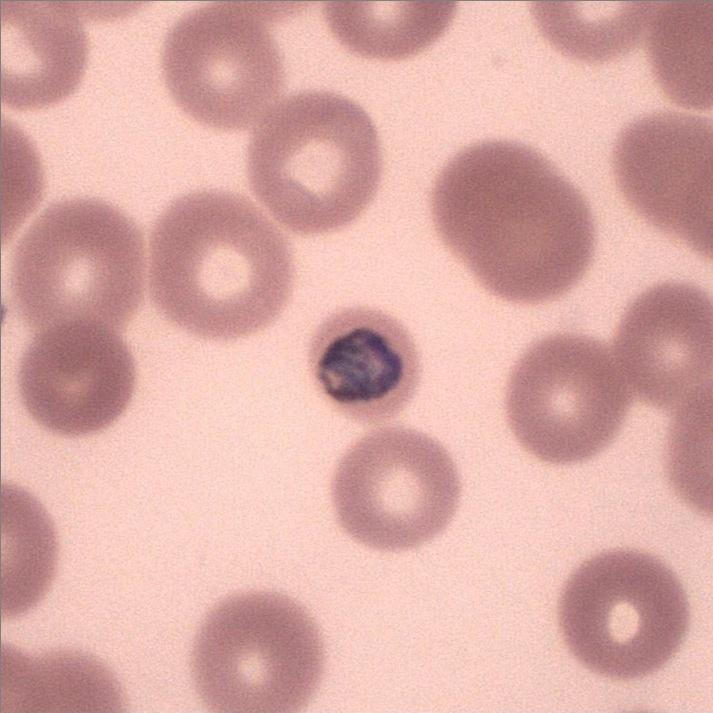Infected: (312, 309, 422, 423)
Uninfected: (433, 134, 594, 304), (148, 191, 290, 342), (247, 91, 378, 234), (15, 197, 141, 337), (560, 551, 686, 678), (192, 594, 324, 713), (508, 331, 627, 459), (333, 431, 458, 550), (165, 9, 282, 125), (22, 326, 133, 434)
